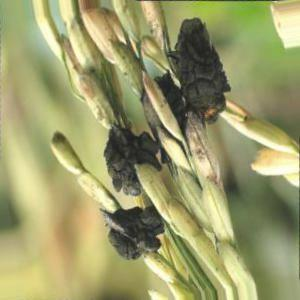Leaf_Scald: (176, 21, 223, 119), (106, 120, 153, 193), (104, 209, 155, 258)
